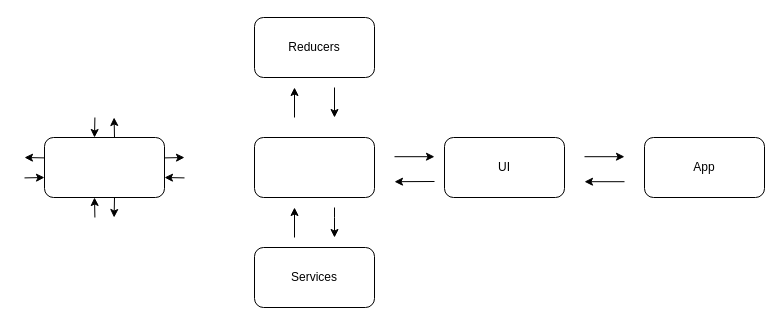
Image size: 782x325. Some labels were removed from this diagram. Each missing label, with the box of its shape:
Contexts: (254, 136, 374, 198)
Models: (44, 136, 164, 198)
